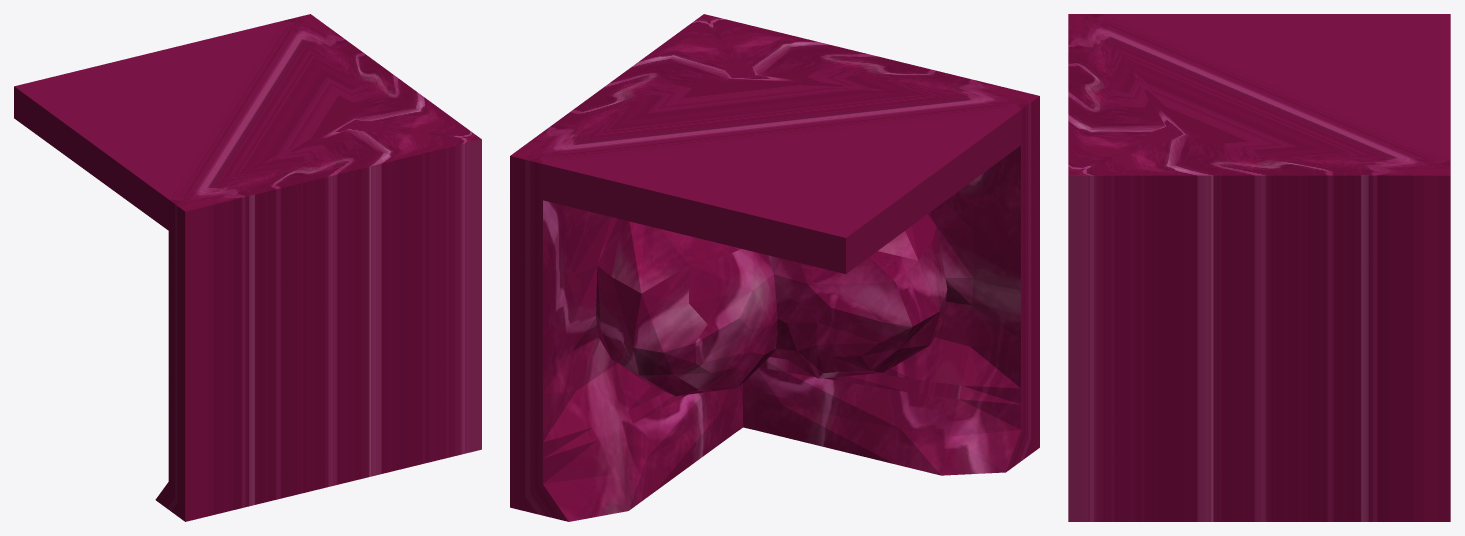
The model's file is EspacioPornoEsquinaCierreInteriorAltoNS.gltf.
The picture shows the model from 3 angles, left to right: view 1: azimuth 30°, elevation 25°; view 2: azimuth 150°, elevation 25°; view 3: azimuth 270°, elevation 25°; orthographic projection. The views are drawn at different scales.
Visible parts, largest first — view 1: Cubo.39; view 2: Cubo.39; view 3: Cubo.39.
Part boxes in pixels (box(x1,y1,x2,y2)): Cubo.39: box(14, 14, 481, 521); Cubo.39: box(510, 14, 1039, 521); Cubo.39: box(1068, 14, 1450, 521).
Bounding box in the file's own units: 2 × 2 × 2.
1 material, 1 textured.
